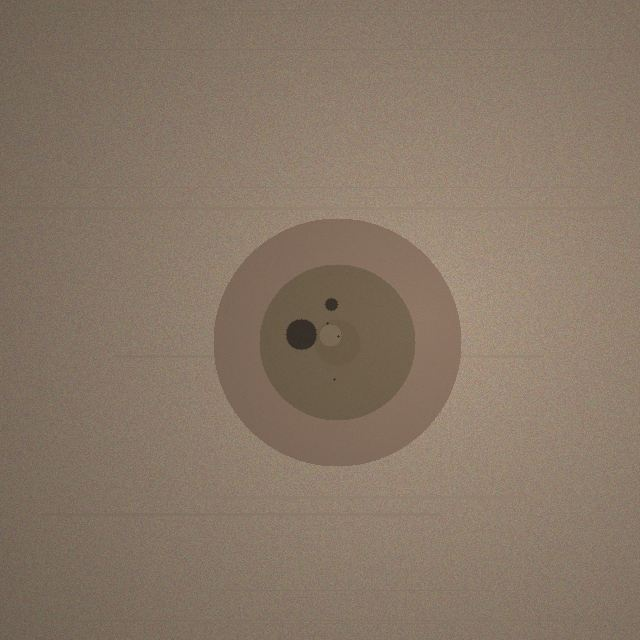shrinkage: (213, 218, 461, 466)
